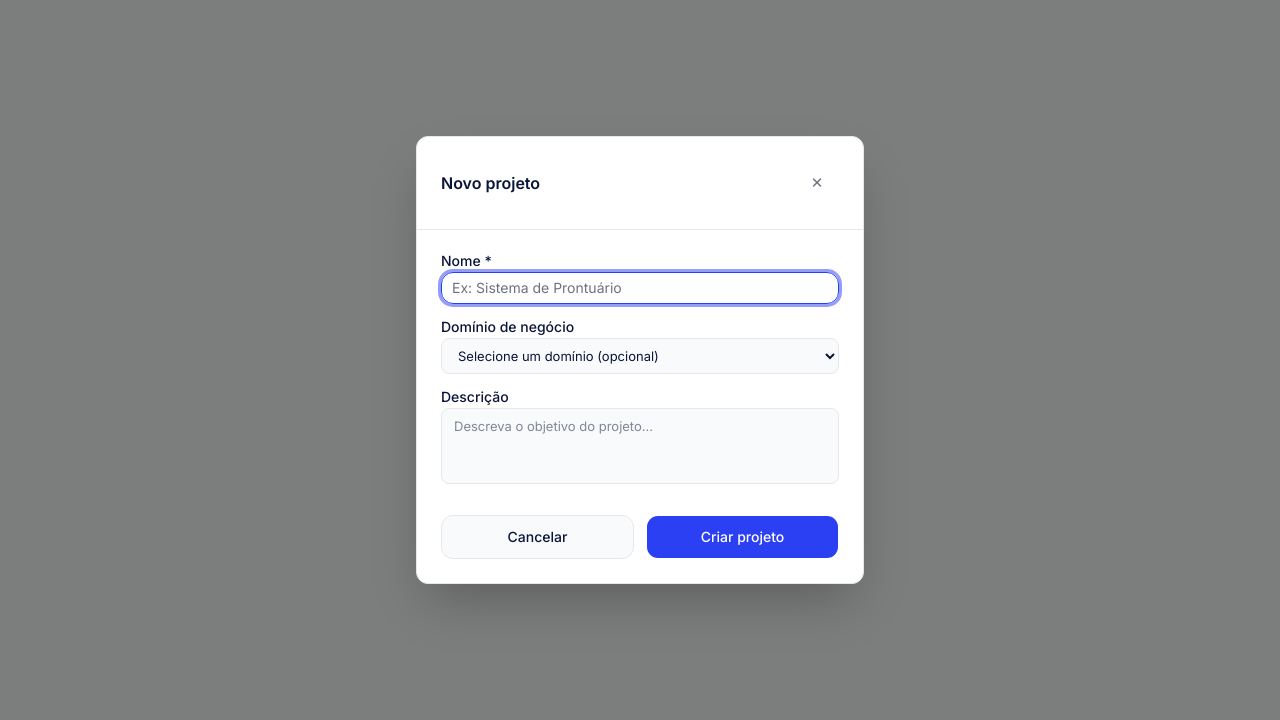
Scenario: ProjectModal — modo criação › mostra erro de validação se nome estiver vazio
The width and height of the screenshot is (1280, 720).
Click the button "Criar projeto" at (742, 537), box top-left (646, 515), bottom-right (839, 559)
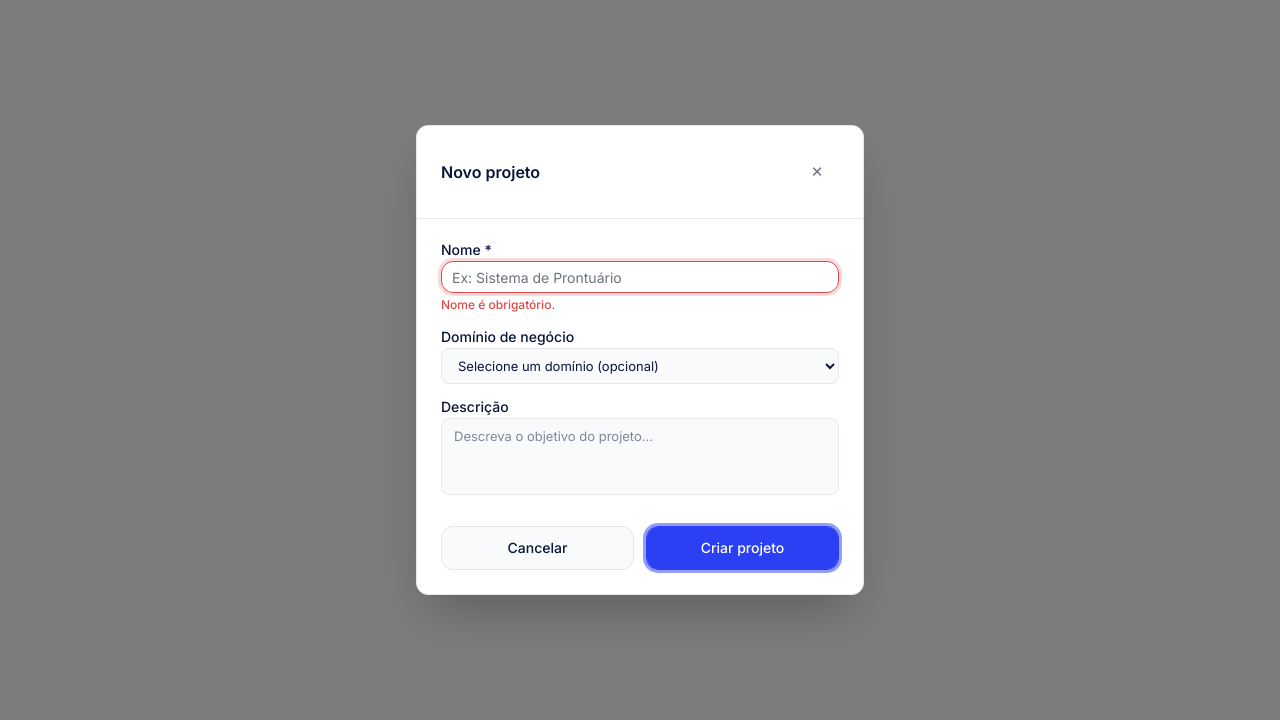
Now the text "Nome é obrigatório." is shown, box top-left (441, 297), bottom-right (555, 312)
